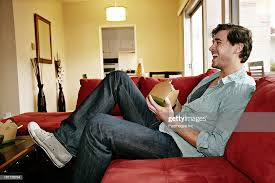white_male: (199, 32, 236, 77)
